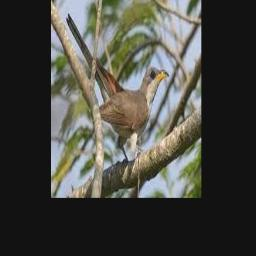Cuckoo: (66, 13, 170, 164)
